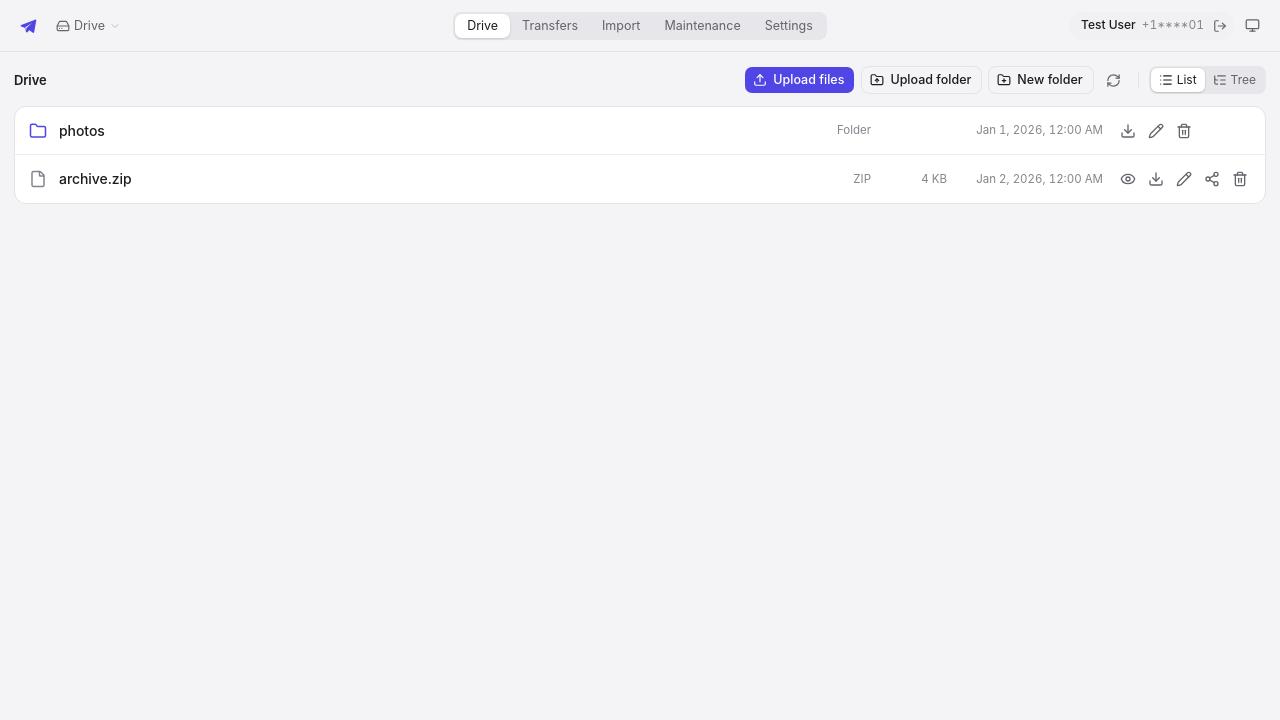
Test case: Escape closes the preview and traps Tab, but not while a viewer is fullscreen
Step 1. Click the button "photos" → (82, 130), box [59,120,795,140]
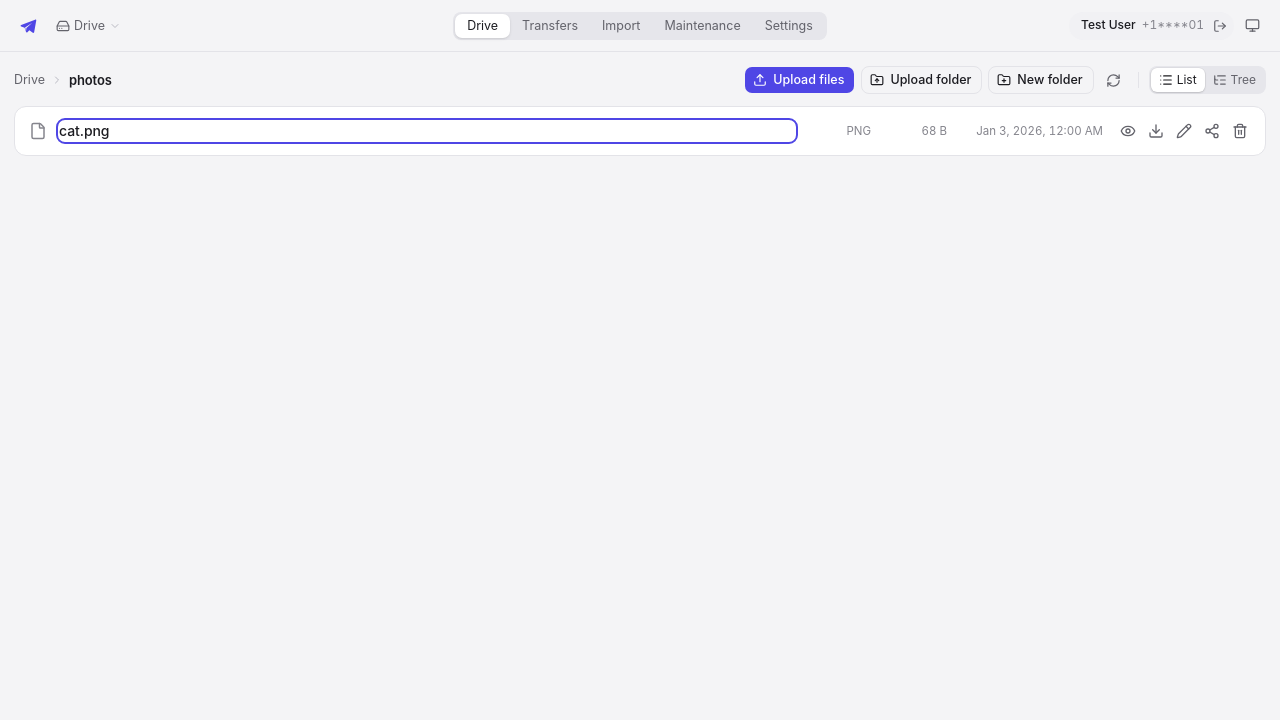
Step 2. Click the button "cat.png" → (84, 130), box [59,121,795,141]
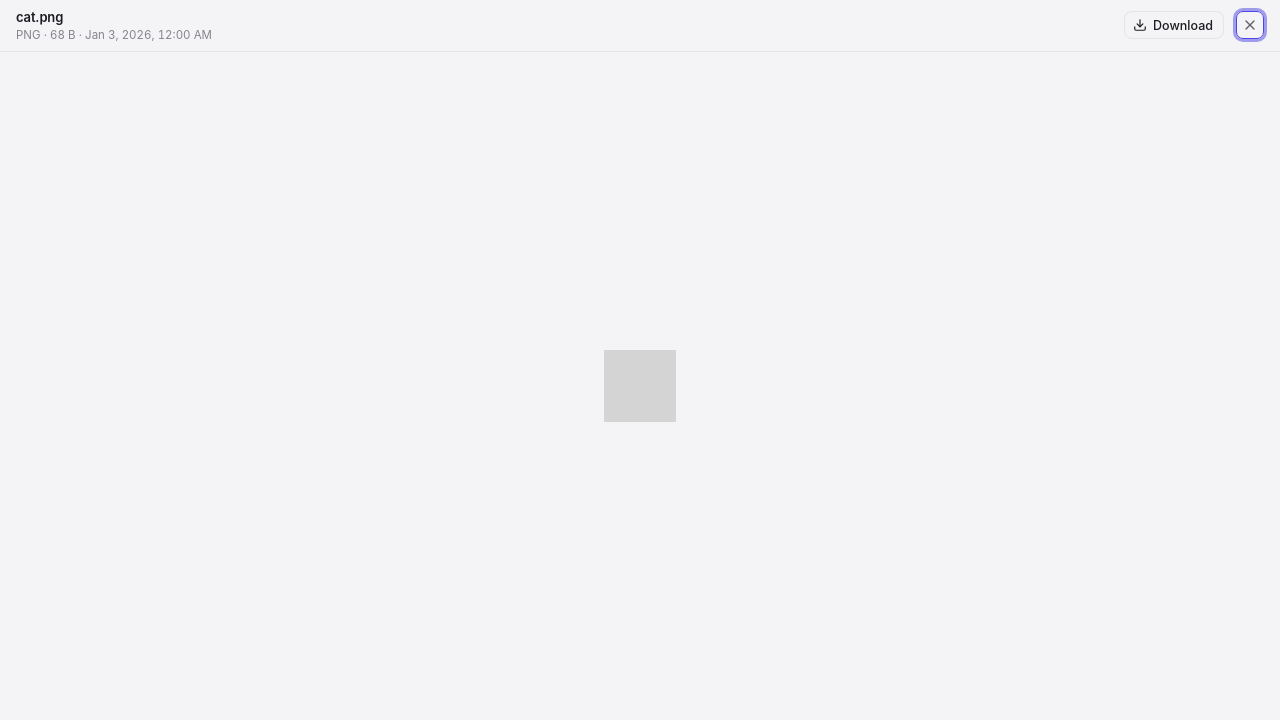
Step 3. Press Tab in the button named "Close preview", box [1236,12,1264,40]
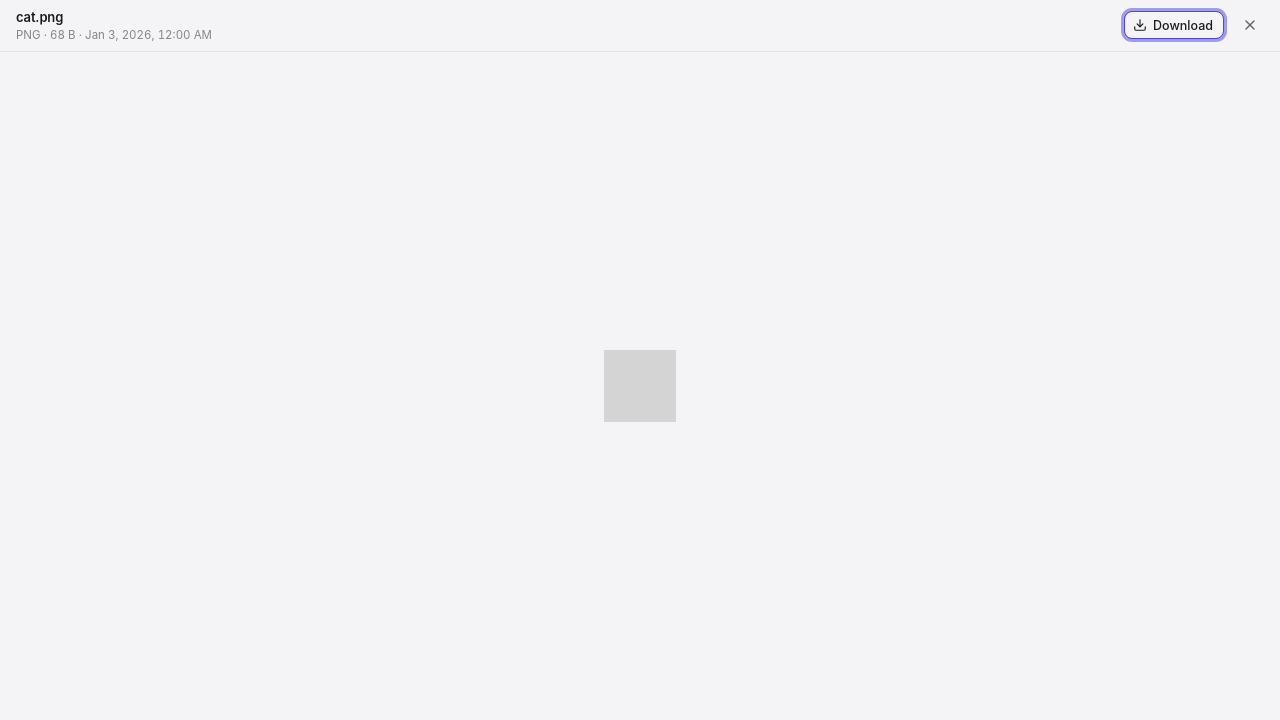
Step 4. Press Escape in the button "Download", box [1124,12,1224,40]
Step 5. Press Escape in the button "Download", box [1124,12,1224,40]
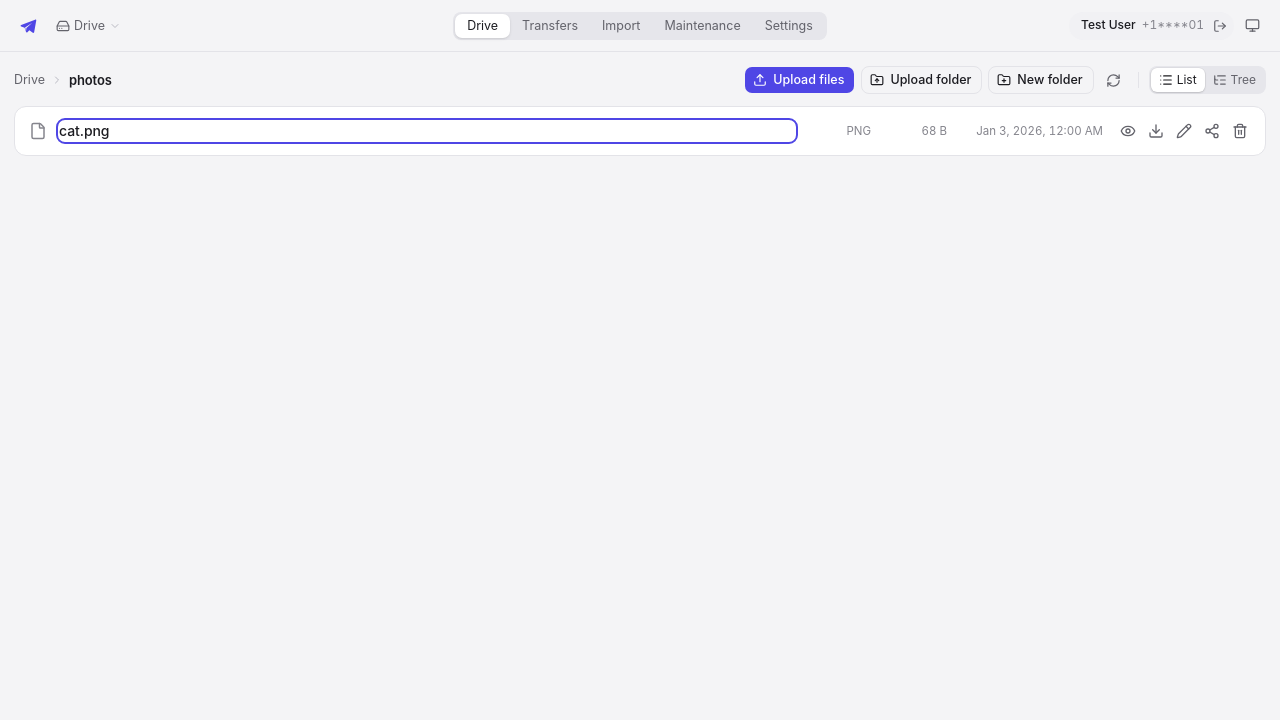
Check: the dialog is gone
